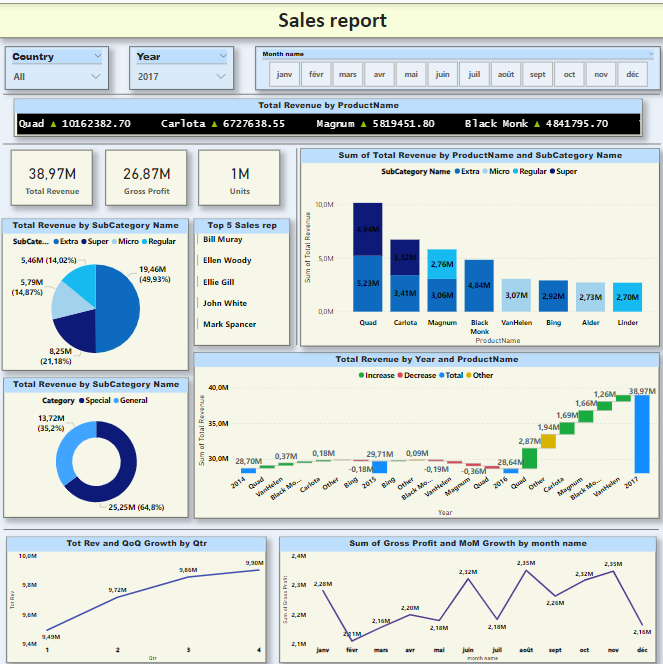

What the dashboard file says about the page in this screenshot:
{"tool":"powerbi","page":{"name":"Page 1","canvas":[1300,1300],"ordinal":0},"visuals":[{"type":"textbox","box":[0,0,1299.5,68.3],"z":0},{"type":"slicer","fields":{"Values":["Geography.Country"]},"box":[12,84,202,84],"z":1000},{"type":"slicer","fields":{"Values":["DateMaster.month name"]},"box":[499.9,84.8,789.4,84.8],"z":2000},{"type":"slicer","fields":{"Values":["DateMaster.year"]},"box":[255.8,84.2,203.3,84.2],"z":3000},{"type":"shape","box":[10,156.7,1278.3,40],"z":4000},{"type":"card","fields":{"Values":["Sum(Sales.Total Revenue)"]},"box":[24.2,285.4,158.9,108],"z":5000},{"type":"card","fields":{"Values":["Sum(Sales.Gross Profit)"]},"box":[208.5,285.4,158.9,108],"z":6000},{"type":"shape","box":[8.8,254.4,1280.5,40.9],"z":7000},{"type":"card","fields":{"Values":["Sum(Sales.Units)"]},"box":[389.6,285.4,158.9,108],"z":8000},{"type":"shape","box":[573,283.6,14.6,383],"z":9000},{"type":"pieChart","title":"Total Revenue by SubCategory Name","fields":{"Category":["SubCategory.SubCategory Name"],"Y":["Sum(Sales.Total Revenue)"]},"box":[6.7,421.7,363.3,295],"z":10000},{"type":"donutChart","title":"Total Revenue by SubCategory Name","fields":{"Y":["Sum(Sales.Total Revenue)"],"Category":["Categories.Category"]},"box":[8.3,731.7,360,271.7],"z":11000},{"type":"multiRowCard","title":"Top 5 Sales rep","fields":{"Values":["SalesRep.Sales Rep Name"]},"box":[380,421.3,186.7,246.7],"z":12000},{"type":"ScrollingTextVisual1448795304508","title":"Total Revenue by ProductName","fields":{"Category":["ProductDetails.ProductName"],"Measure Deviation":["Sum(Sales.Total Revenue)"]},"box":[29.2,187.1,1225,73.1],"z":13000},{"type":"waterfallChart","title":"Total Revenue by Year and ProductName","fields":{"Y":["Sum(Sales.Total Revenue)"],"Breakdown":["ProductDetails.ProductName"],"Category":["DateMaster.Year"]},"box":[380,680,906.7,323.3],"z":14000},{"type":"columnChart","fields":{"Category":["ProductDetails.ProductName"],"Y":["Sum(Sales.Total Revenue)"],"Series":["SubCategory.SubCategory Name"]},"box":[586.7,283.3,700,385],"z":15000},{"type":"shape","box":[8.8,1005.7,1277.6,40.9],"z":16000},{"type":"lineChart","fields":{"Y":["Sales.Tot Rev"],"Category":["DateMaster.Qtr"]},"box":[14.6,1040.8,505.8,245.6],"z":17000},{"type":"lineChart","fields":{"Category":["DateMaster.month name"],"Y":["Sum(Sales.Gross Profit)"]},"box":[546.7,1040.8,733.8,245.6],"z":18000}]}

Visuals, with their boxes in screenshot pixels (x1, y1, x2, y2), scaled from the page's 1300x1300 canvas onto the 663x664 screenshot:
textbox: [left=0, top=0, right=662, bottom=35]
slicer - Geography.Country: [left=6, top=43, right=109, bottom=86]
slicer - DateMaster.month name: [left=255, top=43, right=658, bottom=87]
slicer - DateMaster.year: [left=130, top=43, right=234, bottom=86]
shape: [left=5, top=80, right=657, bottom=100]
card - Sum(Sales.Total Revenue): [left=12, top=146, right=93, bottom=201]
card - Sum(Sales.Gross Profit): [left=106, top=146, right=187, bottom=201]
shape: [left=4, top=130, right=658, bottom=151]
card - Sum(Sales.Units): [left=199, top=146, right=280, bottom=201]
shape: [left=292, top=145, right=300, bottom=340]
"Total Revenue by SubCategory Name" pieChart: [left=3, top=215, right=189, bottom=366]
"Total Revenue by SubCategory Name" donutChart: [left=4, top=374, right=188, bottom=513]
"Top 5 Sales rep" multiRowCard: [left=194, top=215, right=289, bottom=341]
"Total Revenue by ProductName" ScrollingTextVisual1448795304508: [left=15, top=96, right=640, bottom=133]
"Total Revenue by Year and ProductName" waterfallChart: [left=194, top=347, right=656, bottom=512]
columnChart - ProductDetails.ProductName x Sum(Sales.Total Revenue): [left=299, top=145, right=656, bottom=341]
shape: [left=4, top=514, right=656, bottom=535]
lineChart - Sales.Tot Rev x DateMaster.Qtr: [left=7, top=532, right=265, bottom=657]
lineChart - DateMaster.month name x Sum(Sales.Gross Profit): [left=279, top=532, right=653, bottom=657]
